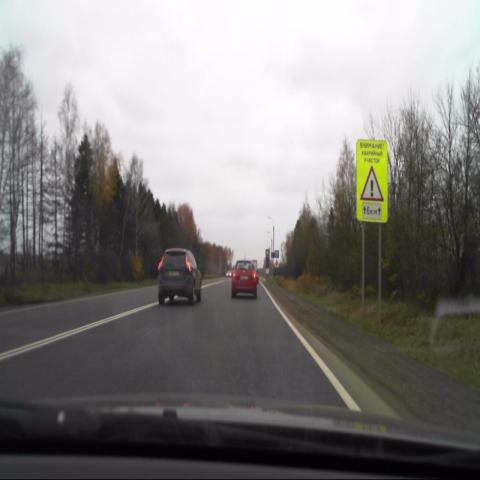1_33: (357, 163, 386, 201)
